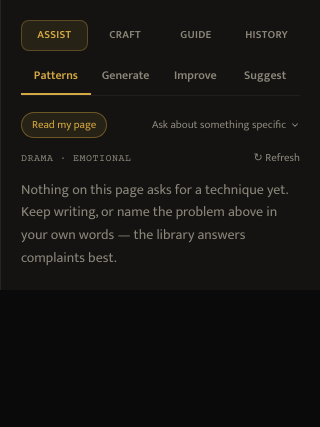
Test: the focus chips › offers one chip per focus
The width and height of the screenshot is (320, 427).
Click the button "Ask about something specific" at (226, 125), box x1=152 y1=116 x2=300 y2=133
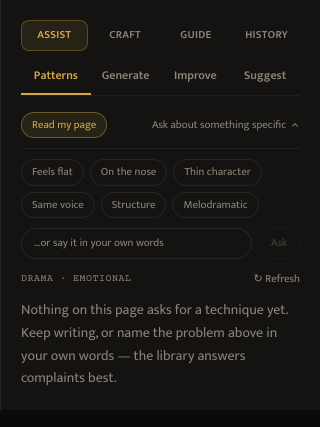
Check: the button "Feels flat" is shown, box x1=21 y1=159 x2=84 y2=186
Check: the button "On the nose" is shown, box x1=90 y1=159 x2=167 y2=186
Check: the button "Thin character" is shown, box x1=173 y1=159 x2=262 y2=186
